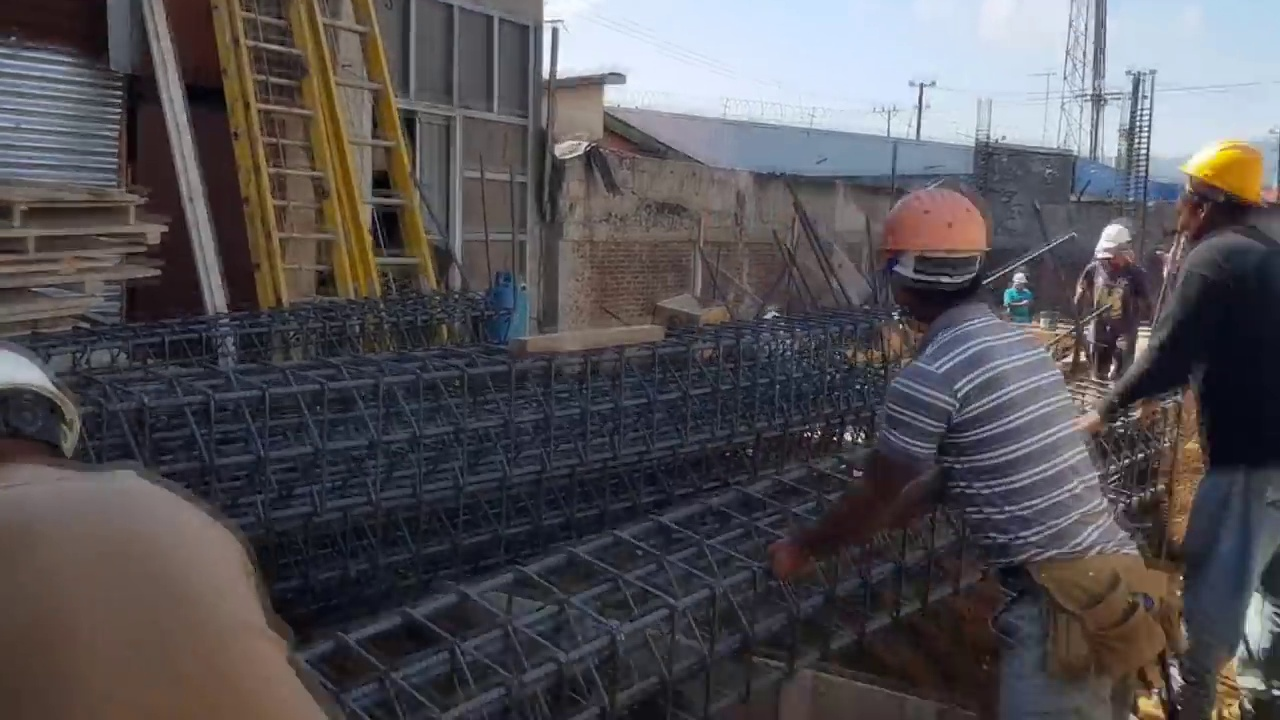helmet: (882, 186, 1004, 271), (1170, 142, 1271, 204), (1, 353, 76, 432), (1094, 221, 1132, 257), (1011, 274, 1028, 285)
helmet-on: (876, 184, 1000, 348), (1167, 140, 1273, 248), (7, 345, 78, 485), (1099, 220, 1140, 269), (1010, 274, 1029, 292)
person: (790, 173, 1131, 708), (1, 343, 319, 718), (1094, 140, 1277, 720), (1076, 221, 1155, 384), (1003, 273, 1034, 324)
